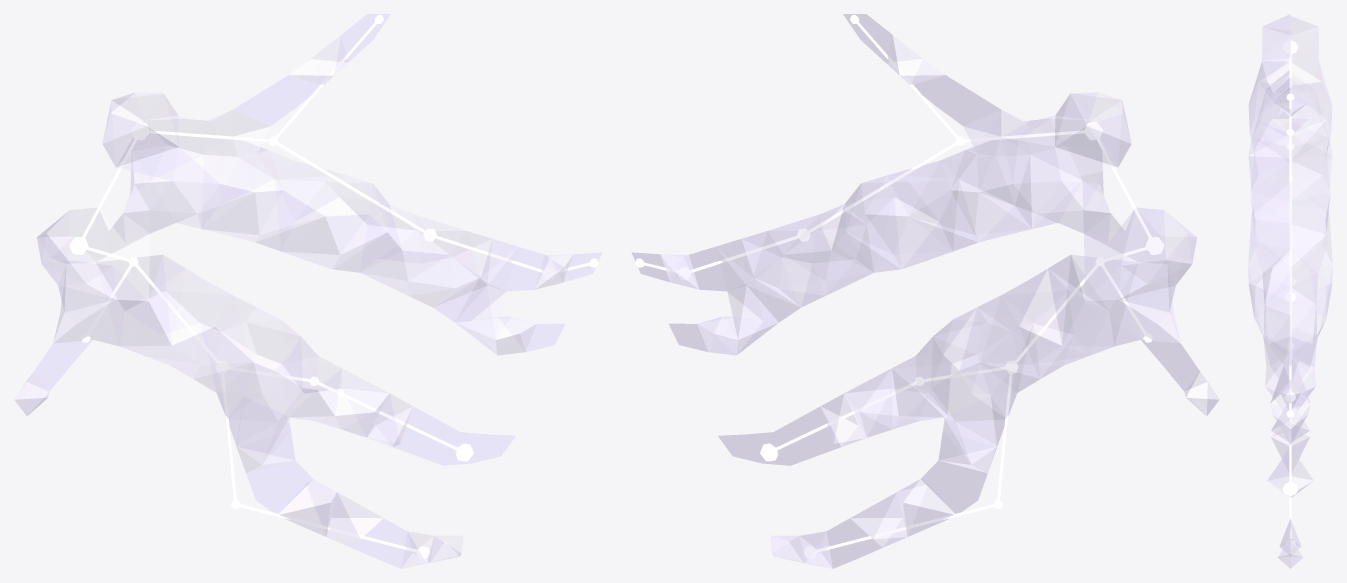
Rendered from 03_Gemini.glb.
3 renders of one model, left to right at view 1: azimuth 30°, elevation 25°; view 2: azimuth 150°, elevation 25°; view 3: azimuth 270°, elevation 25°, orthographic. The views are drawn at different scales.
Visible parts, largest first — view 1: Gemini; view 2: Gemini; view 3: Gemini.
Boxes of the visible parts, left/top/right/bottom form: Gemini: left=14, top=14, right=602, bottom=568; Gemini: left=631, top=14, right=1219, bottom=568; Gemini: left=1248, top=14, right=1332, bottom=568.
Size of the model in its own units: 1.7 by 1.56 by 0.2672.
